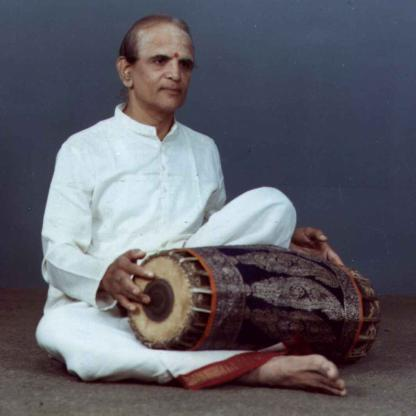Mridangam: (126, 244, 385, 363)
